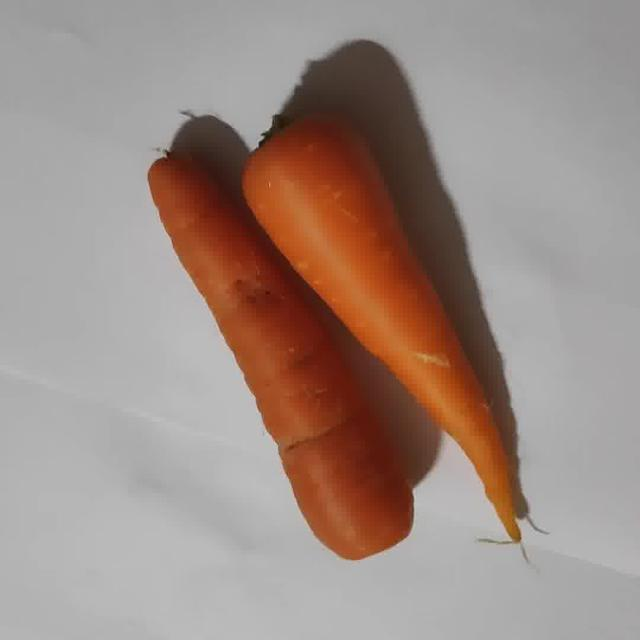Carrot: (244, 121, 519, 539), (147, 155, 413, 561)
